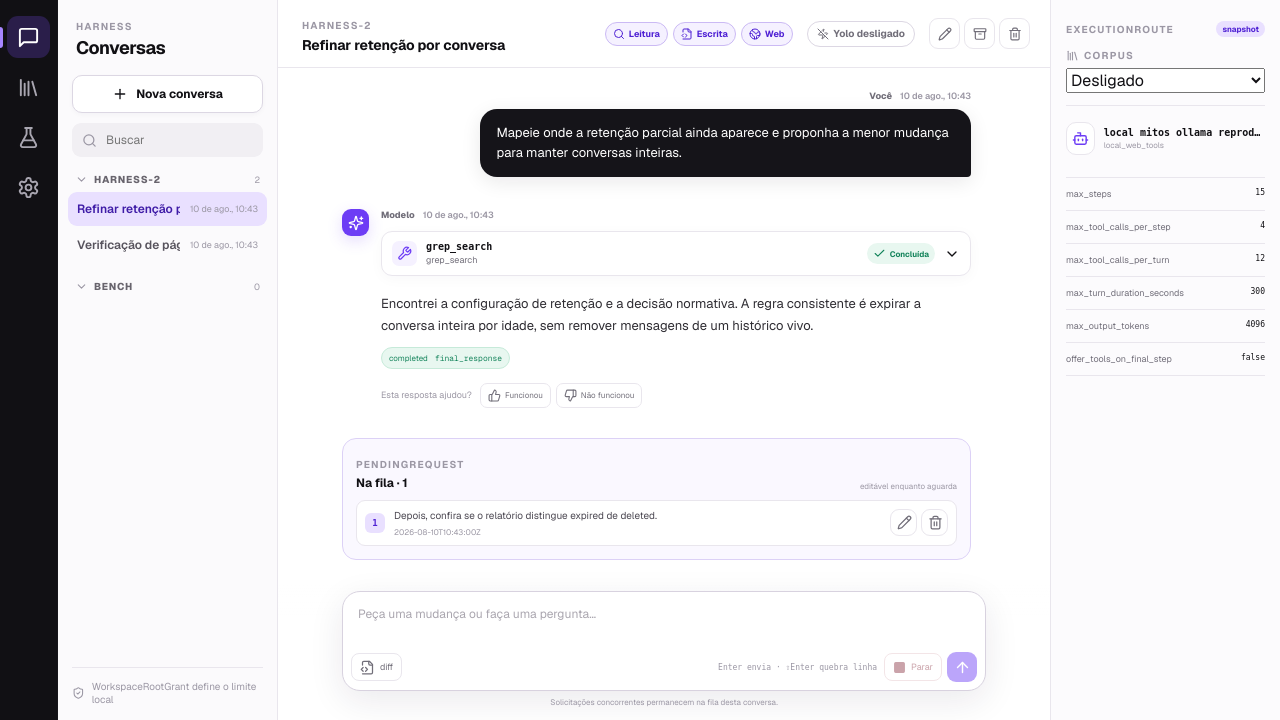
Scenario: App › navega entre as três áreas públicas
Expected: the heading "Refinar retenção por conversa" is shown, [302,36,505,54]
Click the button named "Avaliações".
click(28, 137)  # box [7,116,50,158]
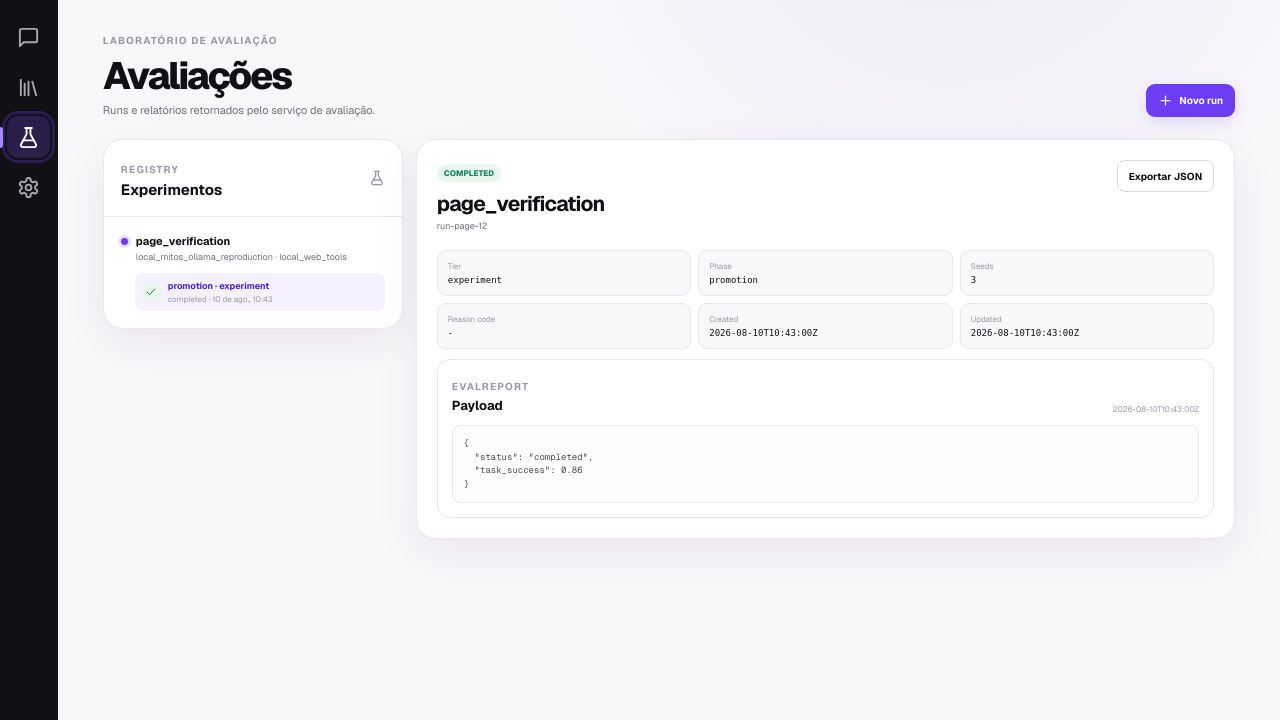
Now the heading "Avaliações" is shown, box [103,51,291,100]
Click the button named "Configurações".
click(28, 187)  # box [7,166,50,208]
(page scrolled)
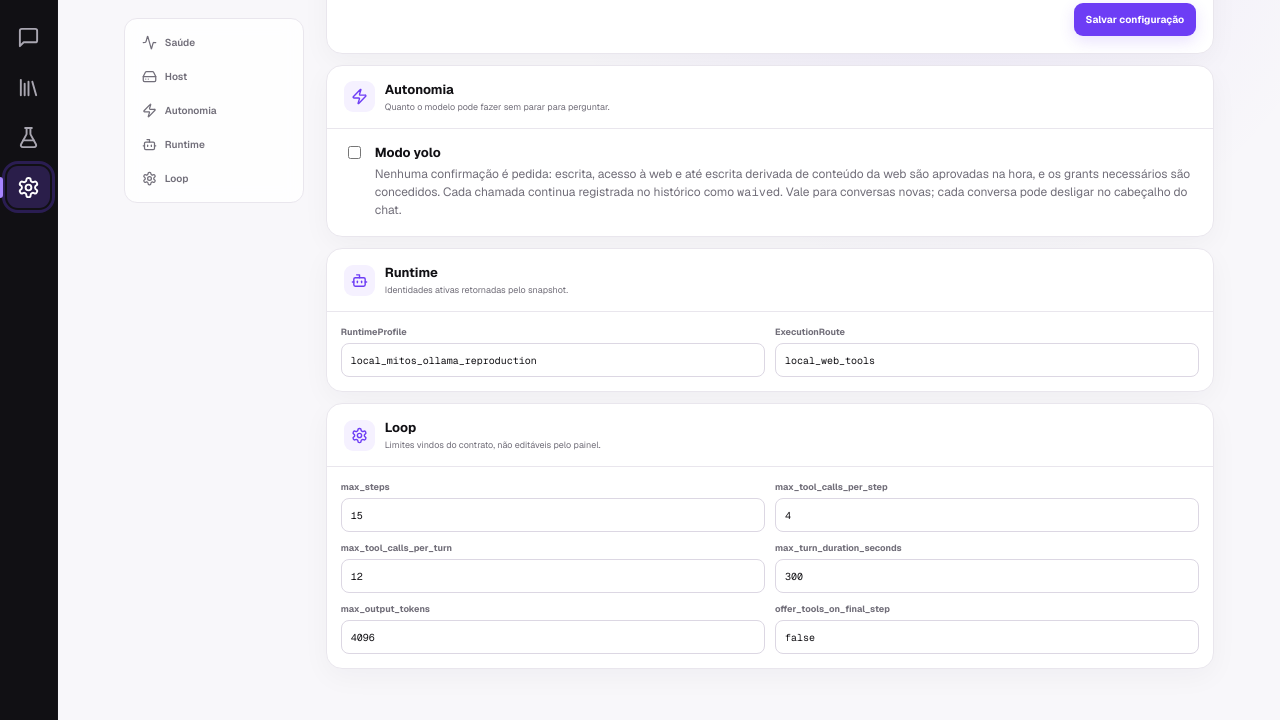
Now the field showing "local_mitos_ollama_reproduction" is shown, box [341,343,765,377]
